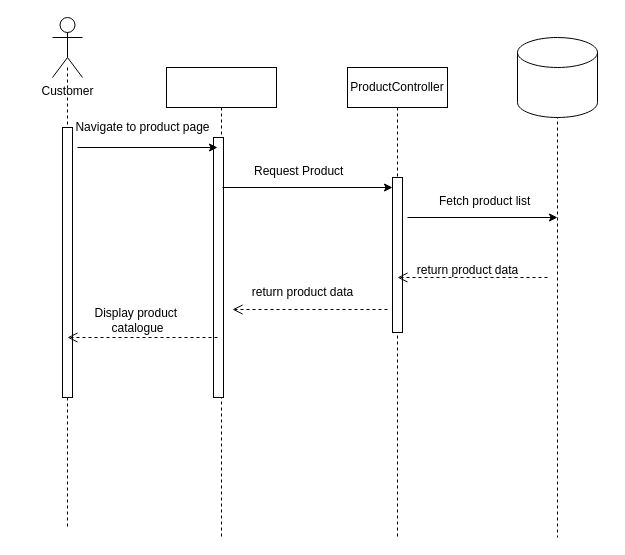
Some shapes in this 625 by 555 pixel diagram are drawn without their labels. Each missing label, with the centre of its shape:
<<database>> MySQL: the point at 557,77
Web UI: the point at 221,302
